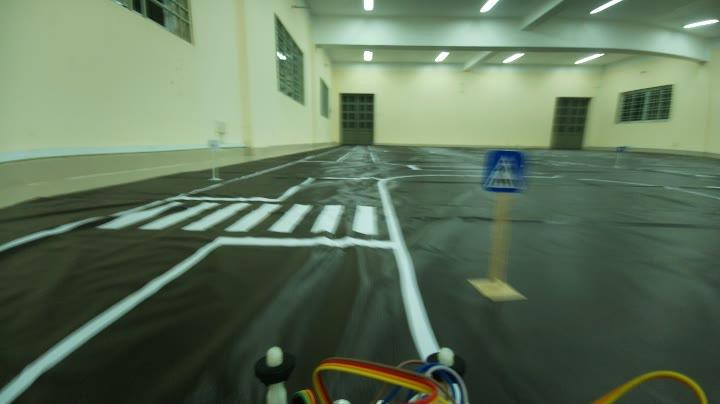crosswalk: (471, 145, 529, 199)
